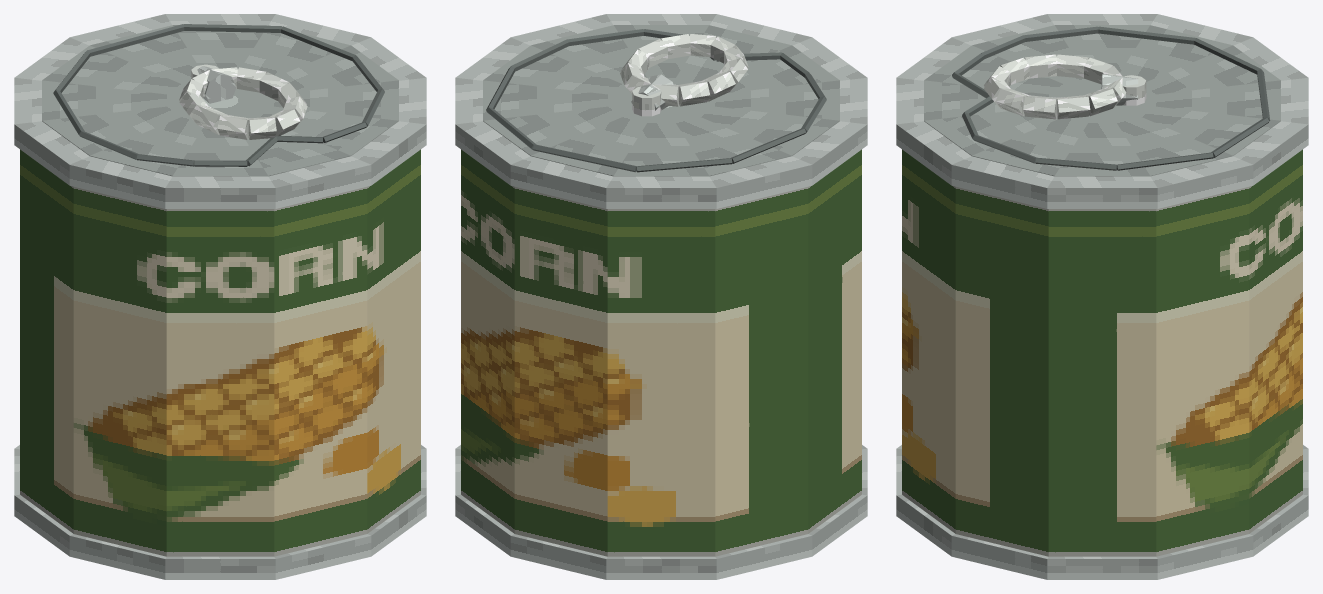
Rendered from can_corn.glb.
The picture shows the model from 3 angles, left to right: view 1: azimuth 30°, elevation 25°; view 2: azimuth 150°, elevation 25°; view 3: azimuth 270°, elevation 25°; orthographic projection.
Parts seen in each view (by area): view 1: block_illustrated wraparound can label, block_recessed easy-open panel, block_rolled steel top, block_rolled steel base, block_pull tab hinge, block_scored lid opening 3, block_scored lid opening 4, block_raised metal pull ring 4, block_raised metal pull ring 3, block_raised metal pull ring 5, block_scored lid opening 5, block_raised metal pull ring 10; view 2: block_illustrated wraparound can label, block_recessed easy-open panel, block_rolled steel top, block_rolled steel base, block_scored lid opening 3, block_raised metal pull ring 7, block_pull tab rivet, block_scored lid opening 2, block_raised metal pull ring 6, block_scored lid opening 7, block_scored lid opening 1, block_raised metal pull ring 1; view 3: block_illustrated wraparound can label, block_recessed easy-open panel, block_rolled steel top, block_rolled steel base, block_scored lid opening 1, block_raised metal pull ring 0, block_raised metal pull ring 11, block_scored lid opening 5, block_raised metal pull ring 5, block_raised metal pull ring 6, block_raised metal pull ring 1, block_raised metal pull ring 10 (+3 smaller).
Part boxes in pixels (x1=…): block_illustrated wraparound can label: x1=20, y1=149, x2=420, y2=556; block_recessed easy-open panel: x1=42, y1=25, x2=398, y2=176; block_rolled steel top: x1=14, y1=14, x2=426, y2=208; block_rolled steel base: x1=14, y1=445, x2=426, y2=579; block_pull tab hinge: x1=197, y1=66, x2=236, y2=103; block_scored lid opening 3: x1=87, y1=24, x2=184, y2=56; block_scored lid opening 4: x1=183, y1=24, x2=282, y2=32; block_raised metal pull ring 4: x1=217, y1=114, x2=249, y2=139; block_raised metal pull ring 3: x1=248, y1=116, x2=276, y2=139; block_raised metal pull ring 5: x1=191, y1=105, x2=226, y2=134; block_scored lid opening 5: x1=281, y1=26, x2=355, y2=60; block_raised metal pull ring 10: x1=237, y1=67, x2=266, y2=92; block_illustrated wraparound can label: x1=461, y1=149, x2=861, y2=556; block_recessed easy-open panel: x1=483, y1=25, x2=839, y2=176; block_rolled steel top: x1=455, y1=14, x2=867, y2=208; block_rolled steel base: x1=455, y1=445, x2=867, y2=579; block_scored lid opening 3: x1=533, y1=144, x2=636, y2=172; block_raised metal pull ring 7: x1=678, y1=81, x2=710, y2=106; block_pull tab rivet: x1=632, y1=86, x2=661, y2=116; block_scored lid opening 2: x1=636, y1=158, x2=732, y2=172; block_raised metal pull ring 6: x1=701, y1=72, x2=735, y2=101; block_scored lid opening 7: x1=567, y1=29, x2=643, y2=45; block_scored lid opening 1: x1=730, y1=128, x2=806, y2=163; block_raised metal pull ring 1: x1=661, y1=34, x2=690, y2=58; block_illustrated wraparound can label: x1=902, y1=149, x2=1302, y2=556; block_recessed easy-open panel: x1=924, y1=25, x2=1280, y2=176; block_rolled steel top: x1=896, y1=14, x2=1308, y2=208; block_rolled steel base: x1=896, y1=445, x2=1308, y2=579; block_scored lid opening 1: x1=1098, y1=26, x2=1196, y2=44; block_raised metal pull ring 0: x1=1023, y1=95, x2=1056, y2=119; block_raised metal pull ring 11: x1=1057, y1=95, x2=1090, y2=119; block_scored lid opening 5: x1=1117, y1=152, x2=1213, y2=170; block_raised metal pull ring 5: x1=1024, y1=54, x2=1056, y2=78; block_raised metal pull ring 6: x1=1057, y1=54, x2=1088, y2=78; block_raised metal pull ring 1: x1=996, y1=88, x2=1028, y2=116; block_raised metal pull ring 10: x1=1084, y1=88, x2=1117, y2=116.
Size of the model in its own units: 0.0715 by 0.0801 by 0.0715.
Materials: 1 (1 with a texture image).
